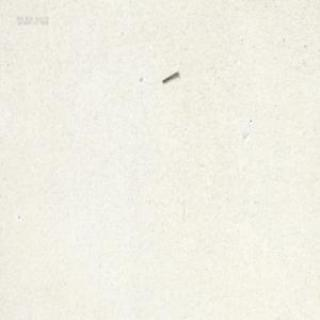Bolttrack_idkeyframe: (160, 71, 177, 84)
